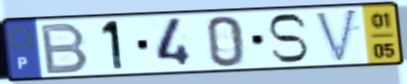0: (205, 14, 246, 69)
1: (97, 19, 127, 74)
4: (152, 15, 198, 71)
B: (39, 20, 92, 76)
S: (264, 12, 310, 66)
V: (312, 6, 361, 65)
